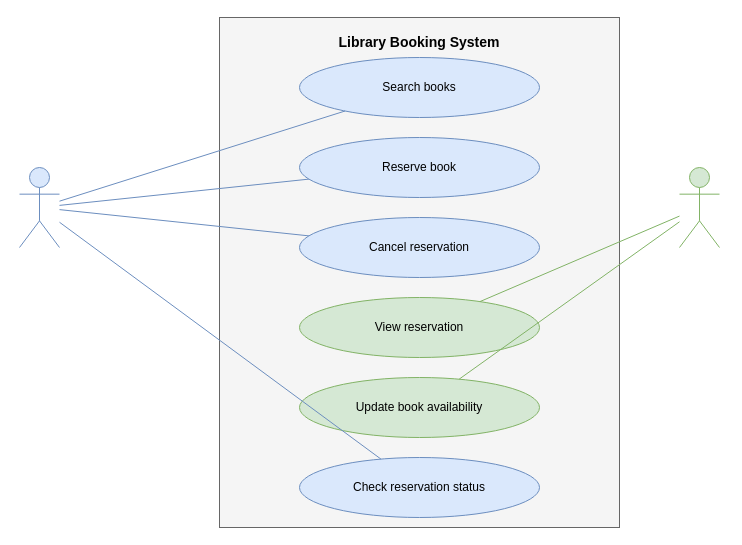
The diagram is 742 pixels wide and 545 high, and some of its shapes have lost their labels. Here are the shapes that lost their labels. From the top down, the centre of each, then its label:
At pixel 39 207: "Student".
At pixel 699 207: "Librarian".
